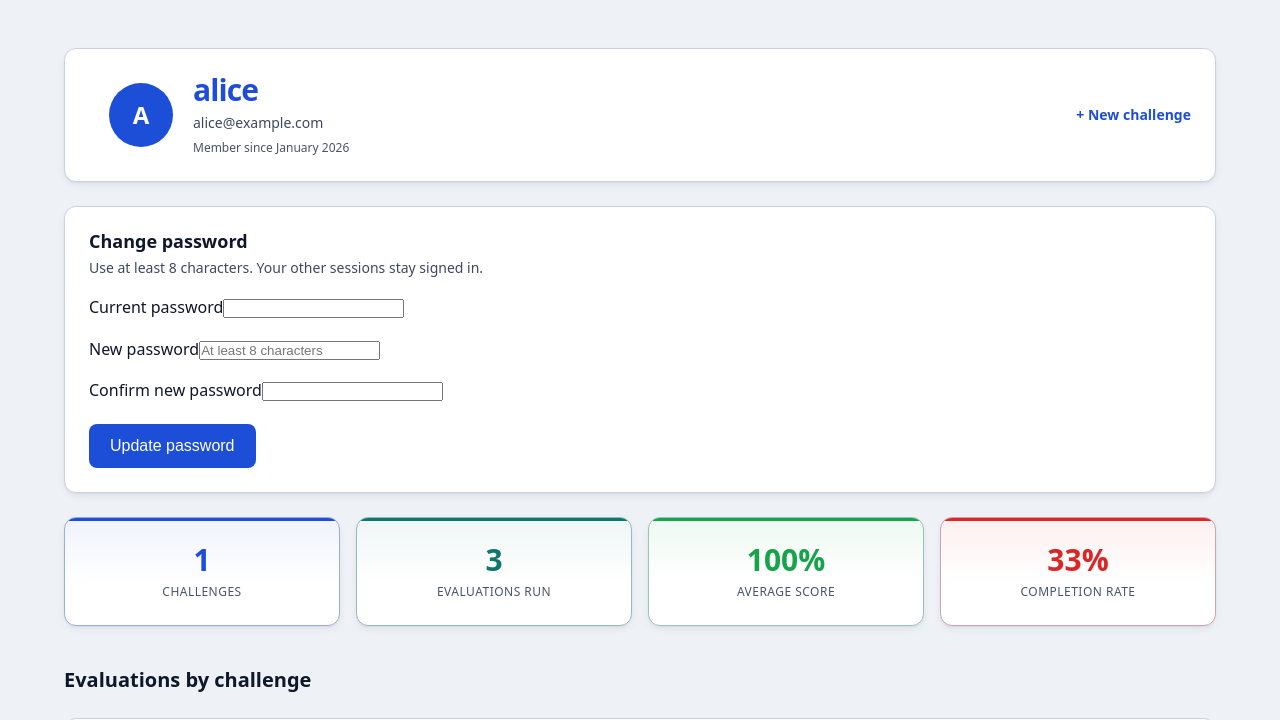
Test case: Profile › changes the password and clears the form on success
Expected: the heading "alice" is shown, 193,73 -> 1056,108
Type "currentpass123" into the password field labelled "Current password" at (314,309), box 223,299 -> 404,318
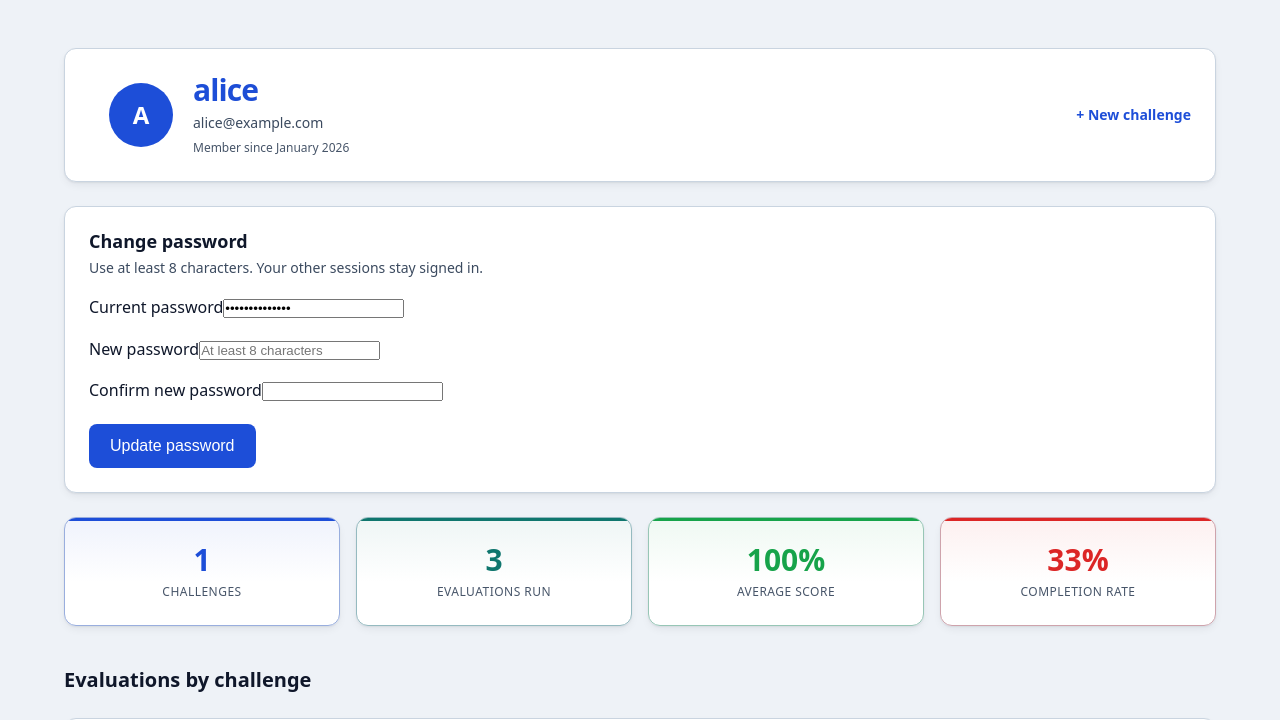
Type "newpass123456" into the password field labelled "New password" at (290,350), box 199,341 -> 380,360
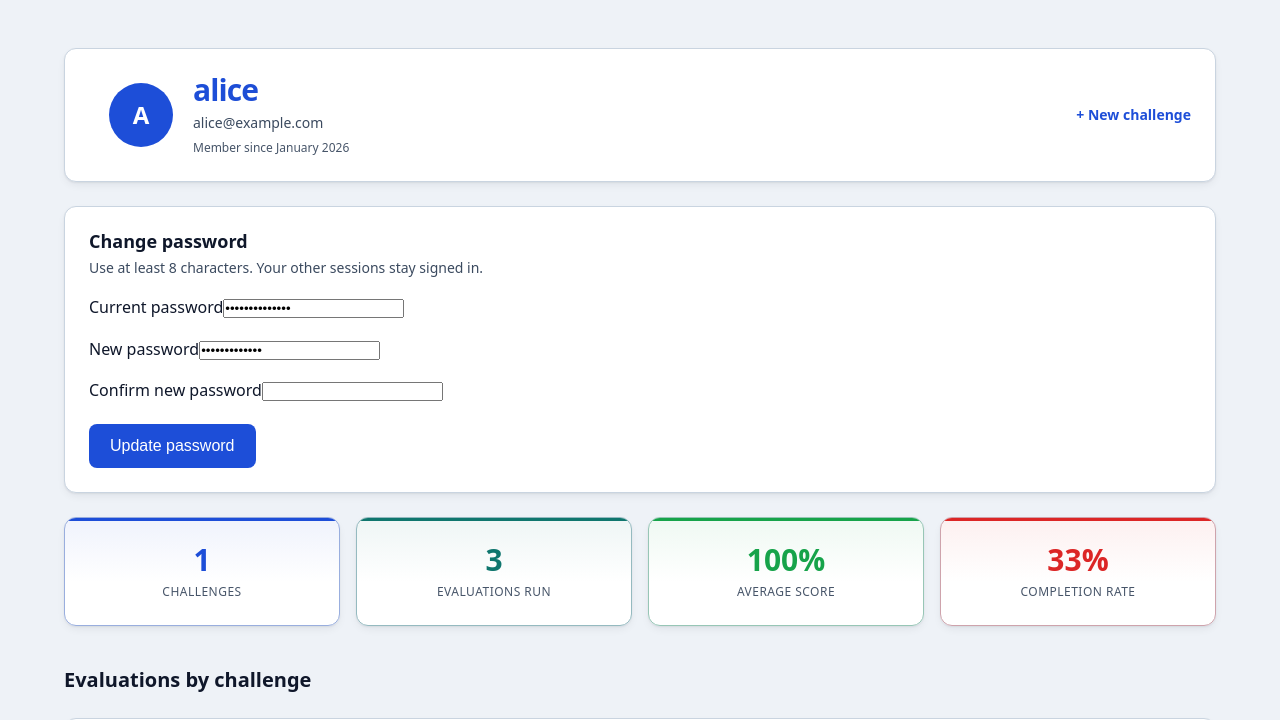
Type "newpass123456" into the password field labelled "Confirm new password" at (352,392), box 262,382 -> 443,401
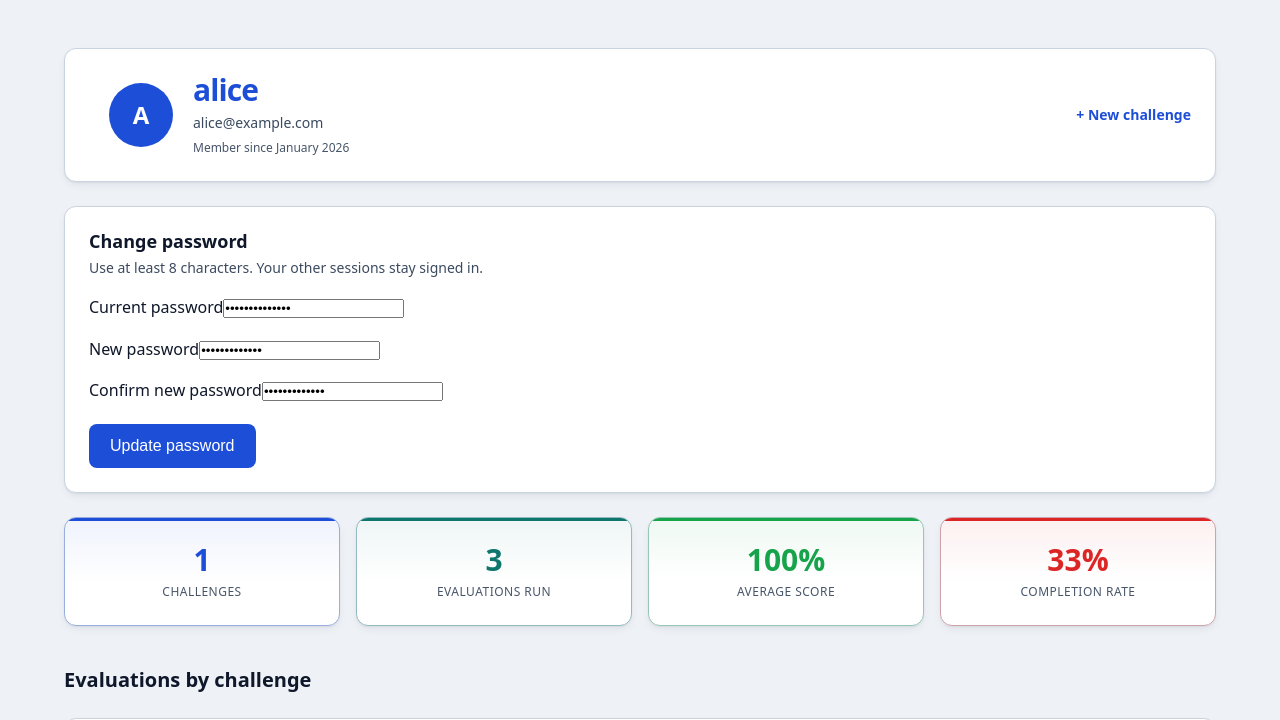
Click the button "Update password" at (172,446), box 89,424 -> 256,468
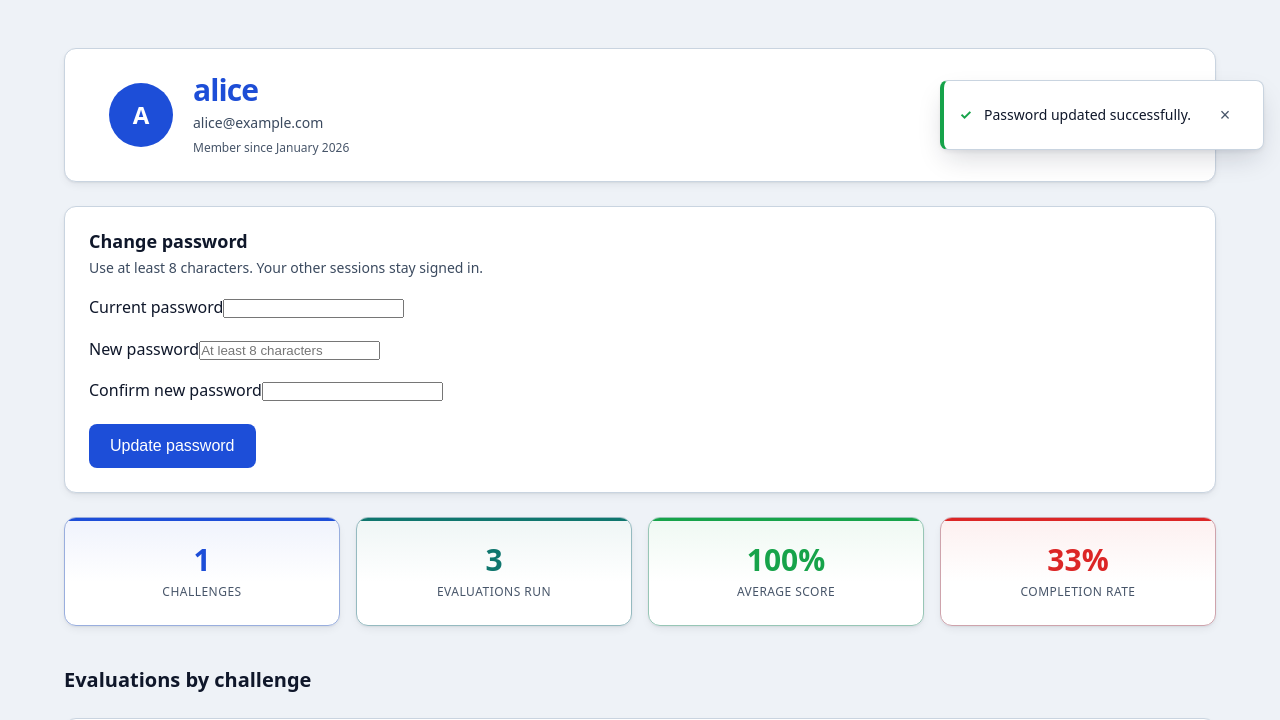
Now the password field labelled "Current password" is empty, box 223,299 -> 404,318
Now the text "Password updated successfully." is shown, box 984,105 -> 1191,125
